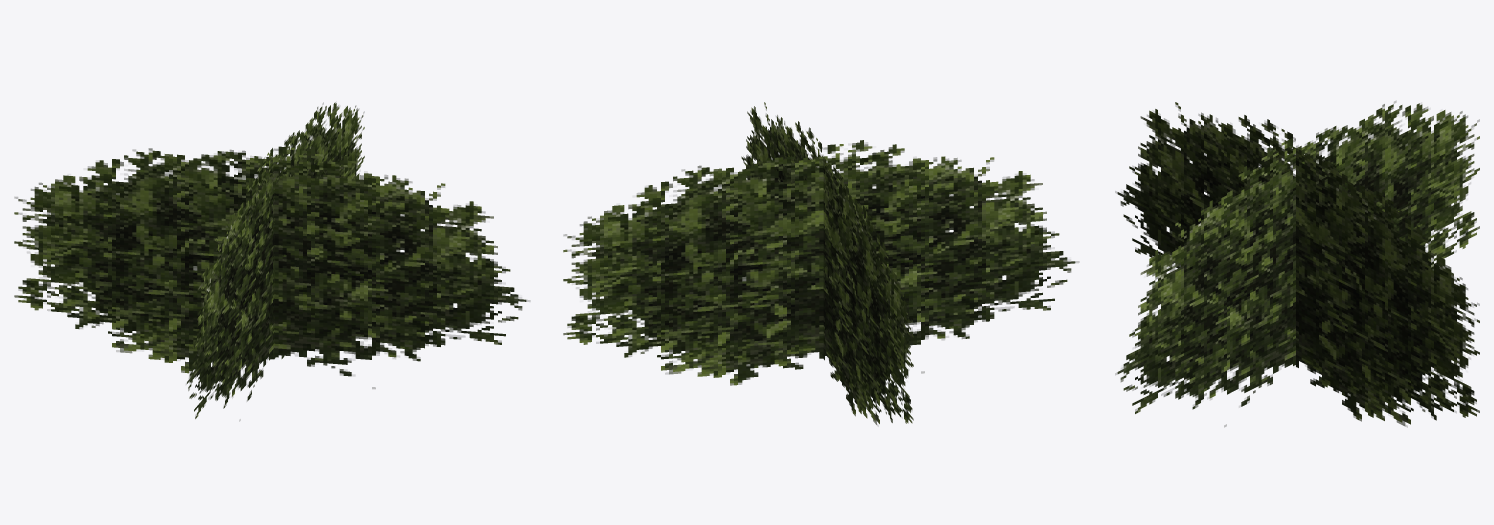
The model's file is bush.glb.
The picture shows the model from 3 angles, left to right: view 1: azimuth 30°, elevation 25°; view 2: azimuth 150°, elevation 25°; view 3: azimuth 270°, elevation 25°; orthographic projection. The views are drawn at different scales.
Parts seen in each view (by area): view 1: bush; view 2: bush; view 3: bush.
Part boxes in pixels (x1,y1,x2,y2): bush: (14, 102, 529, 421); bush: (563, 102, 1078, 425); bush: (1115, 101, 1479, 427).
Size of the model in its own units: 0.766 by 0.601 by 0.6428.
1 material, 1 textured.
